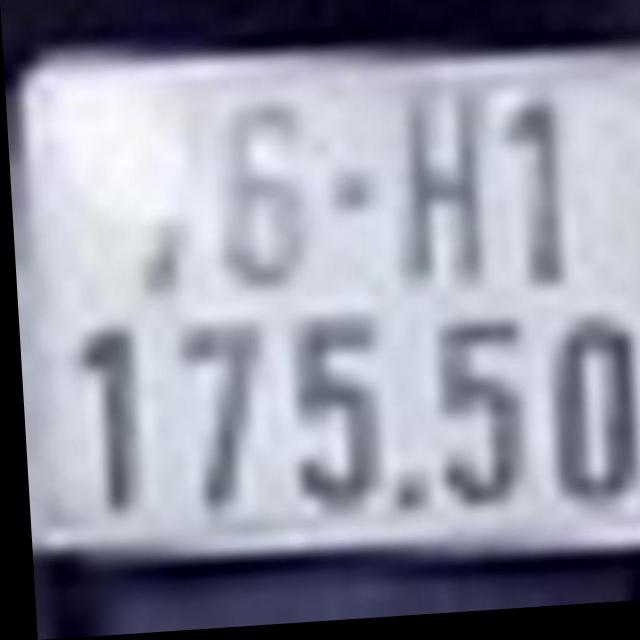0: (541, 316, 636, 511)
1: (501, 100, 570, 303), (86, 321, 148, 519)
5: (280, 312, 379, 517), (424, 316, 516, 511)
6: (219, 103, 308, 297)
7: (168, 311, 268, 525)
H: (402, 92, 486, 297)
